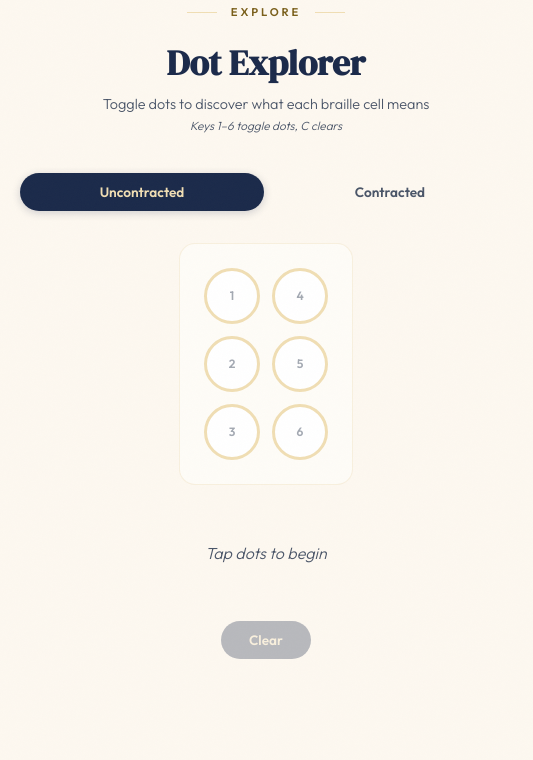
Dot Explorer component › clicking a dot toggles it; the buttons say which dot and whether it is raised
Click the button named "Dot 1".
click(232, 296)  # box [204,268,260,324]
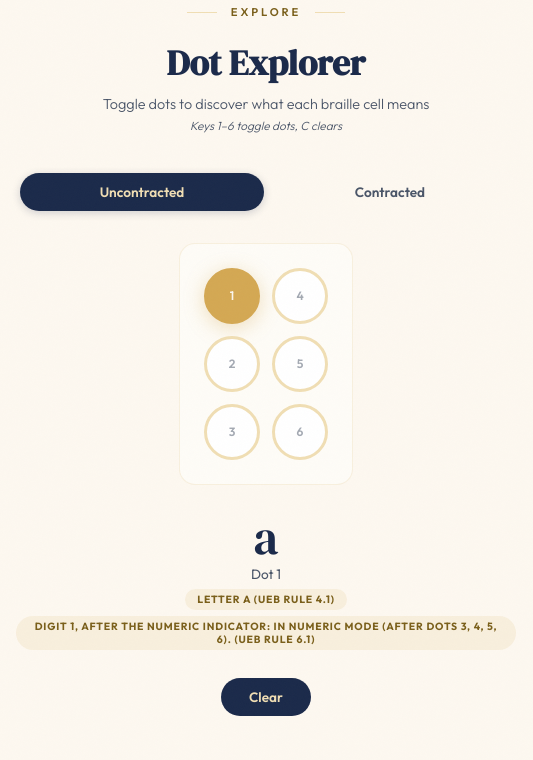
Click the button named "Dot 2".
click(232, 364)  # box [204,336,260,392]
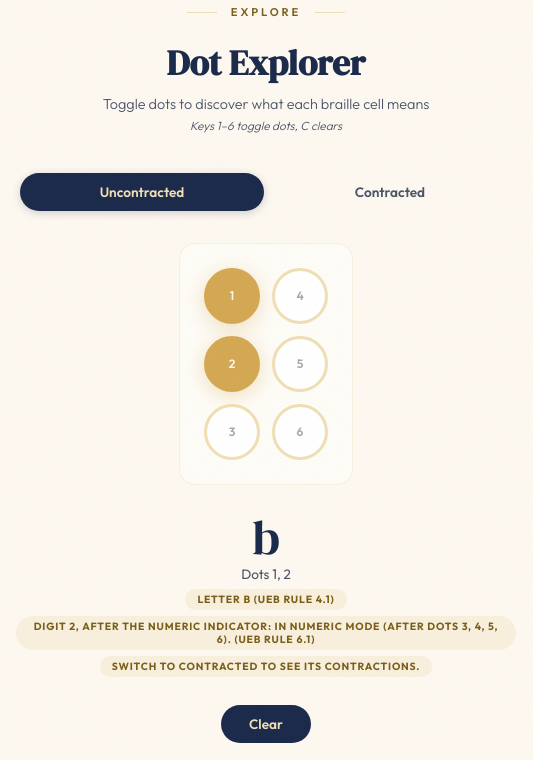
Click the button named "Dot 5".
click(300, 364)  # box [272,336,328,392]
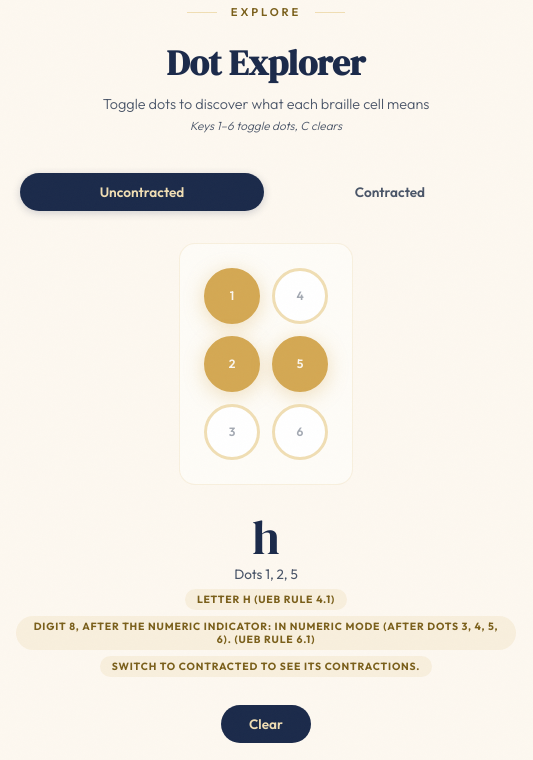
Check: the text with class "explorer-letter" reads "h", box [252,504,280,570]
